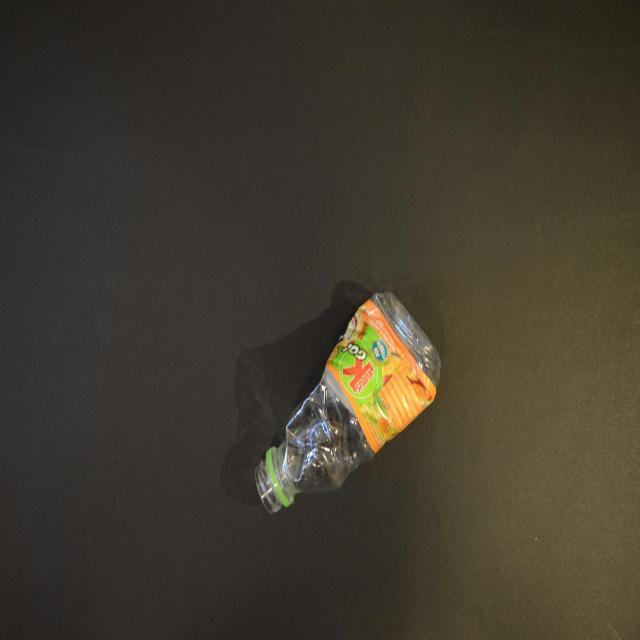plastic_bottle: (254, 292, 442, 516)
